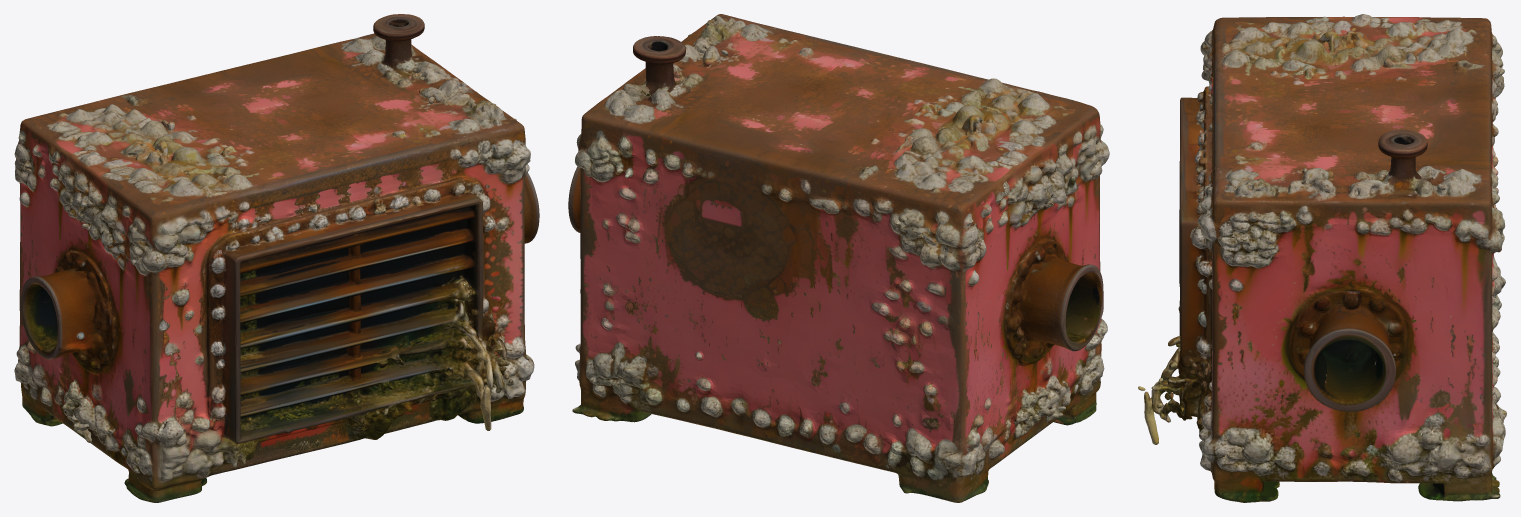
The picture shows the model from 3 angles, left to right: view 1: azimuth 30°, elevation 25°; view 2: azimuth 150°, elevation 25°; view 3: azimuth 270°, elevation 25°; orthographic projection. The views are drawn at different scales.
Visible parts, largest first — view 1: textured.obj; view 2: textured.obj; view 3: textured.obj.
Part boxes in pixels (x1,y1,x2,y2): textured.obj: (14,14,539,502); textured.obj: (568,14,1109,502); textured.obj: (1138,14,1506,502).
Bounding box in the file's own units: 1.99 × 1.33 × 1.3.
1 material, 1 textured.
